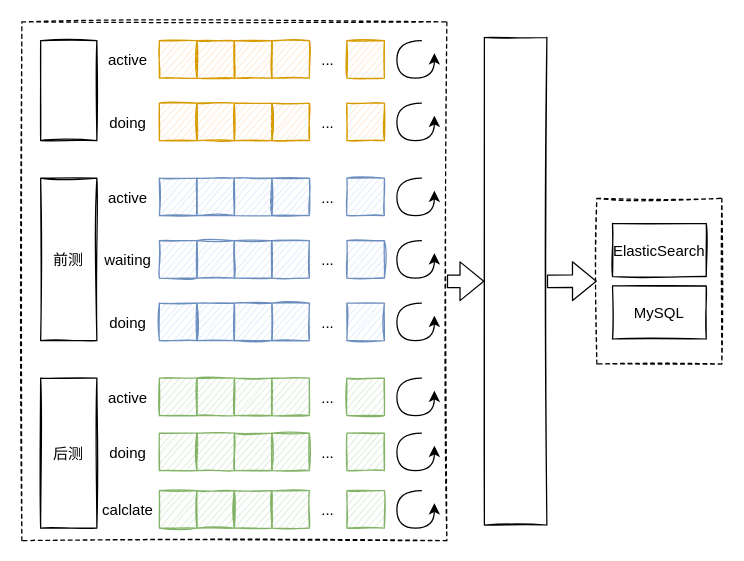
This 744x561 diagram has some shape labels left out. The shapes that lost their labels are listed below. From the top down, each one's centre as x and y in pixels, then its label:
(x=68, y=90): 排行榜 KOL
(x=515, y=280): cron 3分钟
